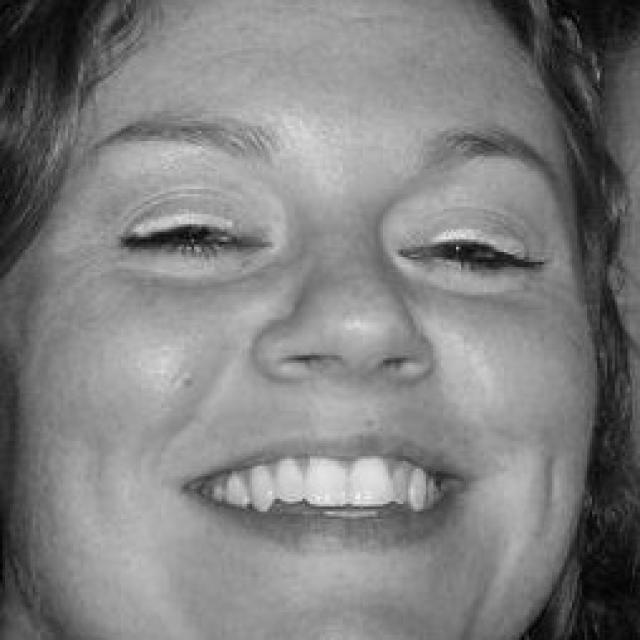real: (30, 76, 602, 631), (136, 184, 560, 298)
